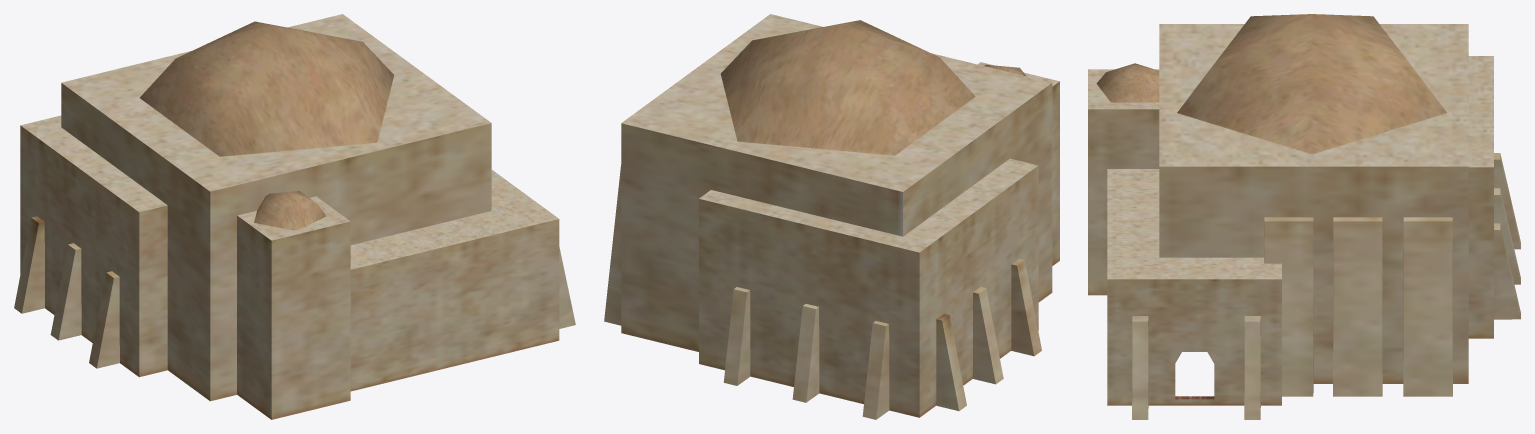
Rendered from thm_tato_imprv_building_s01_r0_mesh_l3.fbx.
3 renders of one model, left to right at view 1: azimuth 30°, elevation 25°; view 2: azimuth 150°, elevation 25°; view 3: azimuth 270°, elevation 25°, orthographic. The views are drawn at different scales.
Parts seen in each view (by area): view 1: mesh_node; view 2: mesh_node; view 3: mesh_node.
Part boxes in pixels (box(x1,y1,x2,y2)): mesh_node: box(14, 14, 575, 419); mesh_node: box(604, 14, 1059, 419); mesh_node: box(1088, 14, 1520, 419).
Bounding box in the file's own units: 26.2 × 17.79 × 23.43.
